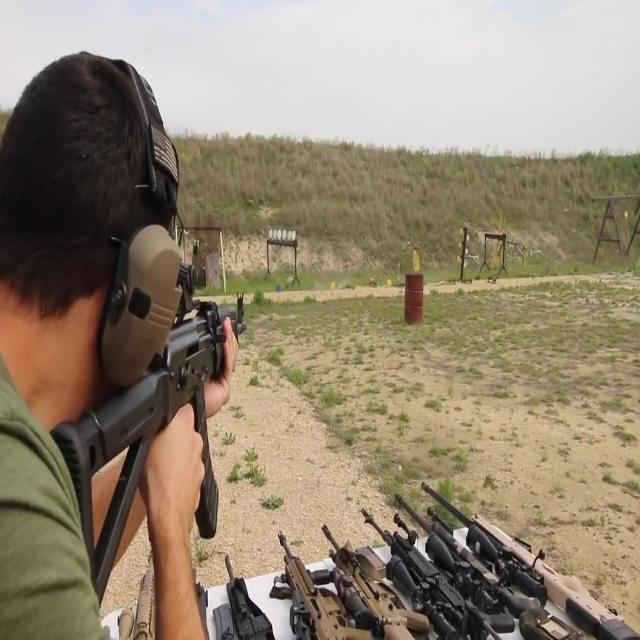Weapon: (112, 400, 640, 628), (0, 175, 264, 605)
